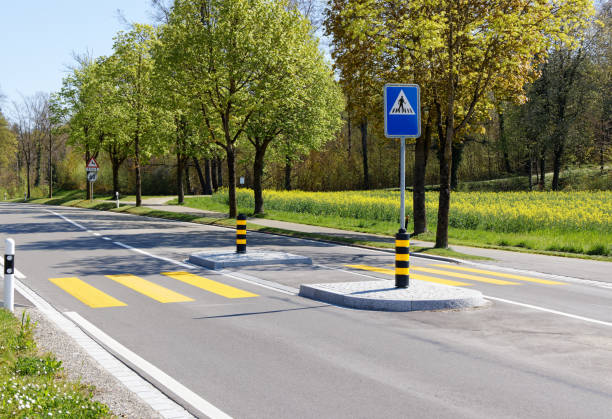yaya_gecidi: (385, 84, 423, 139)
